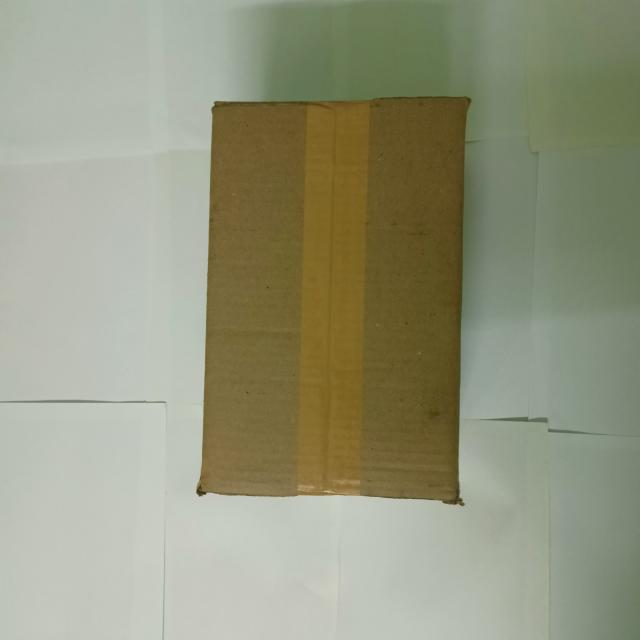box: (196, 98, 472, 508)
